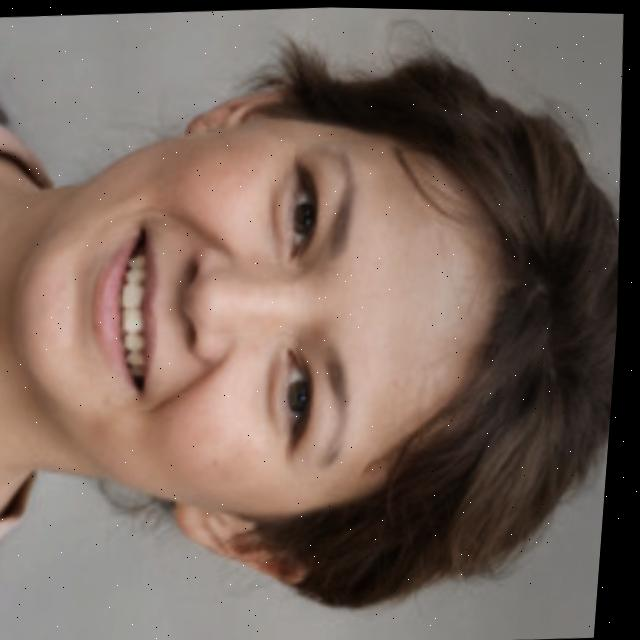happy: (0, 37, 638, 618)
